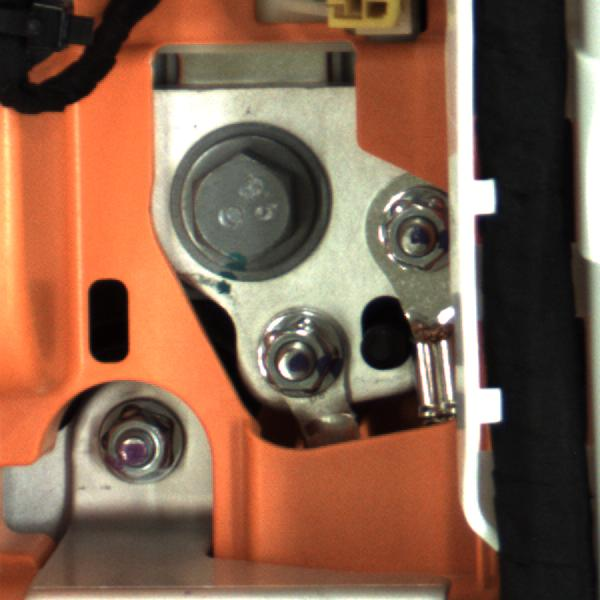nut_b: (153, 116, 331, 285)
screw_s: (82, 406, 186, 490), (247, 313, 344, 403), (367, 192, 445, 270)
